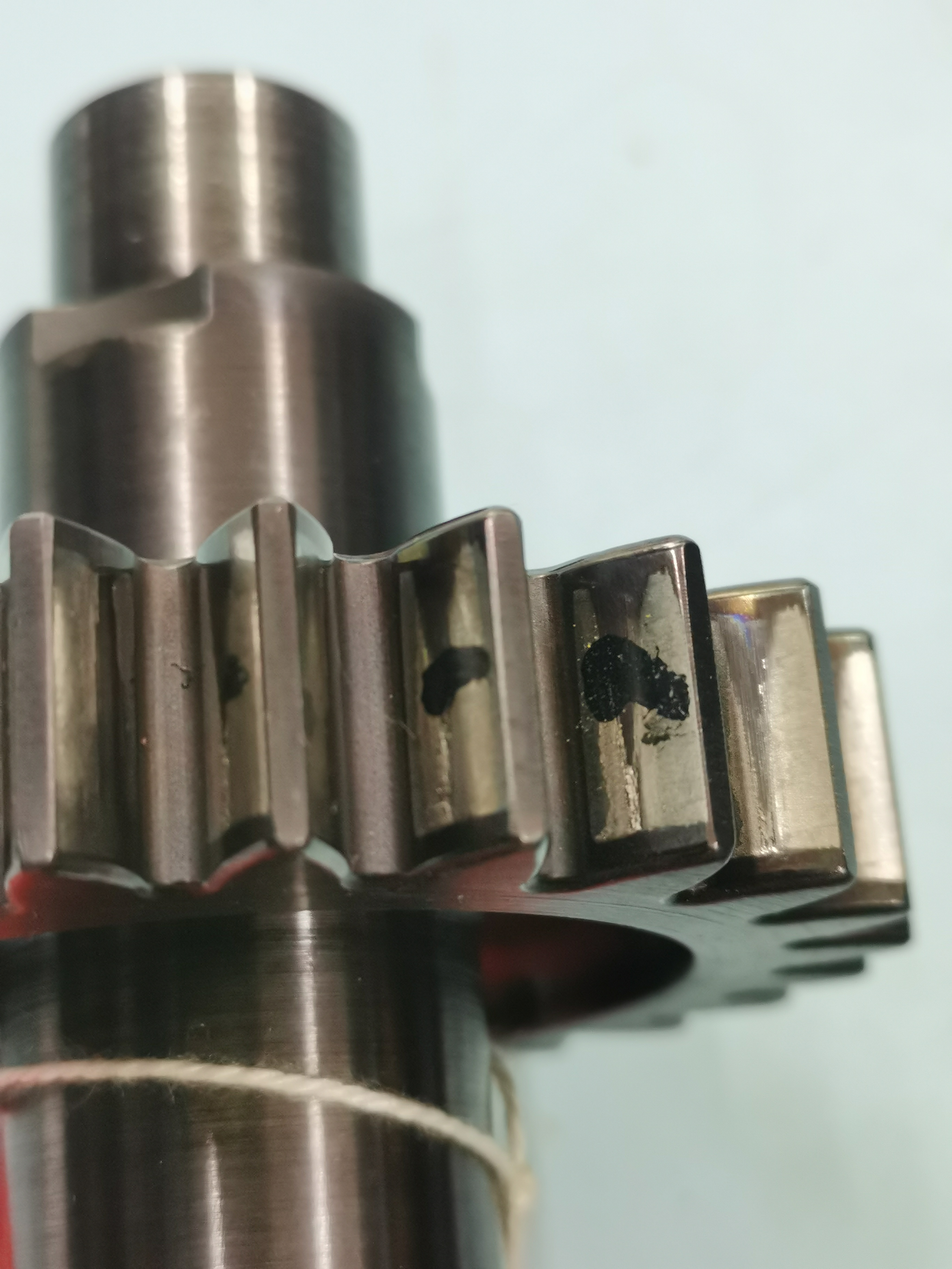Abrasion: (560, 522, 709, 901), (381, 515, 524, 861), (717, 569, 856, 881)
